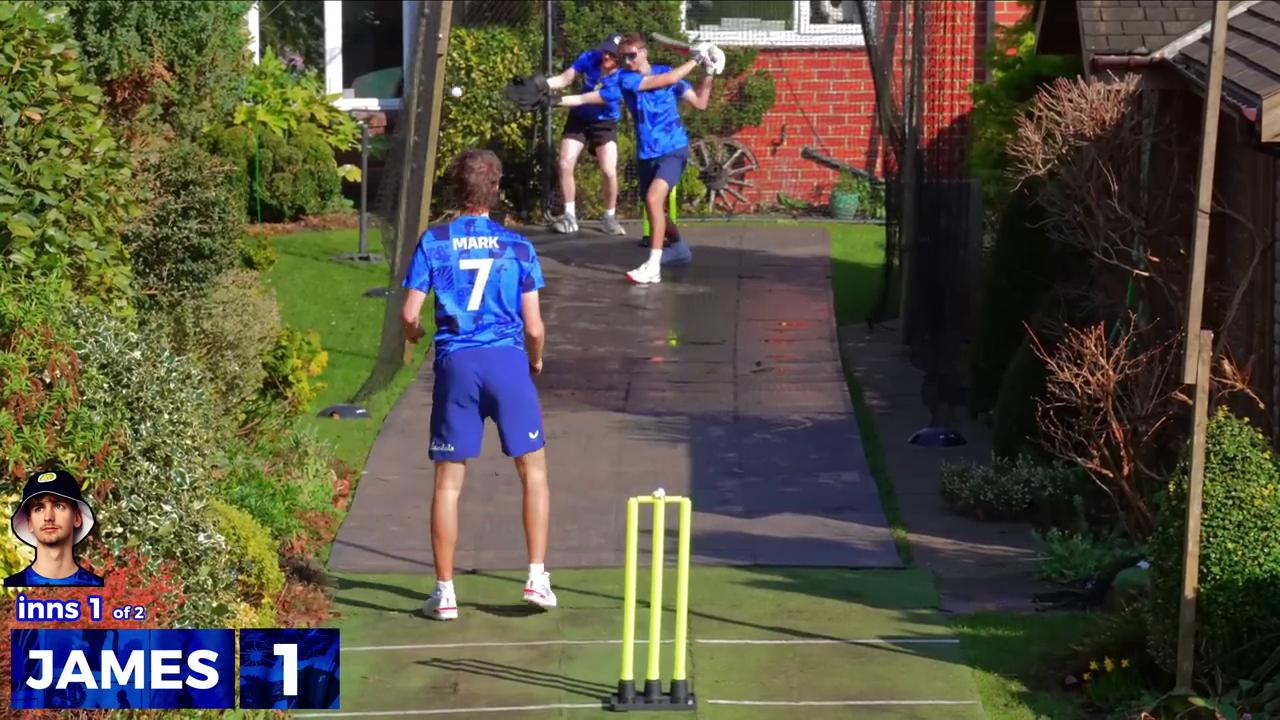ball: (444, 82, 471, 108)
